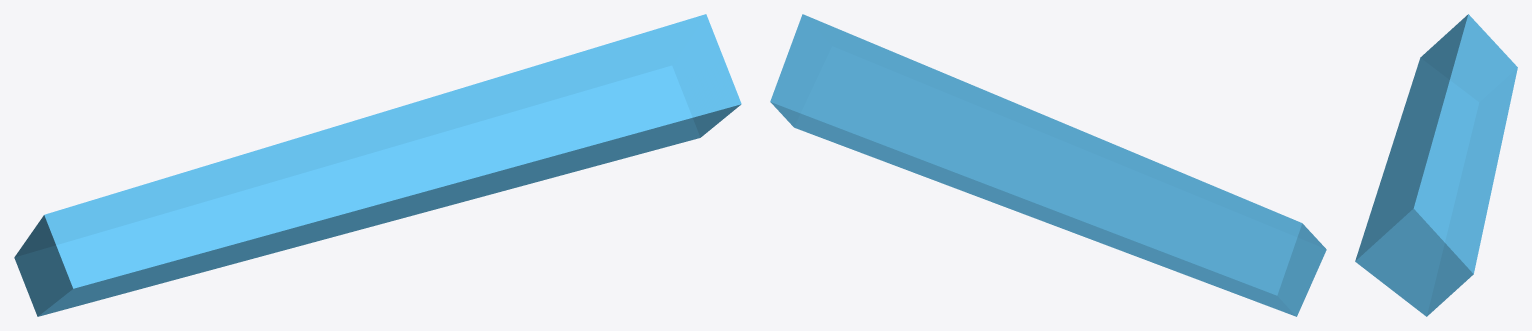
File: Event_421115418_HErechit_73.fbx
3 views of the same model, side by side, from view 1: azimuth 30°, elevation 25°; view 2: azimuth 150°, elevation 25°; view 3: azimuth 270°, elevation 25° (orthographic). The views are drawn at different scales.
Parts seen in each view (by area): view 1: Model; view 2: Model; view 3: Model.
Boxes of the visible parts, x1,y1,x2,y2 form: Model: (14,14,741,316); Model: (770,14,1326,316); Model: (1355,14,1517,316).
Size of the model in its own units: 2.23 by 0.6029 by 0.6029.
